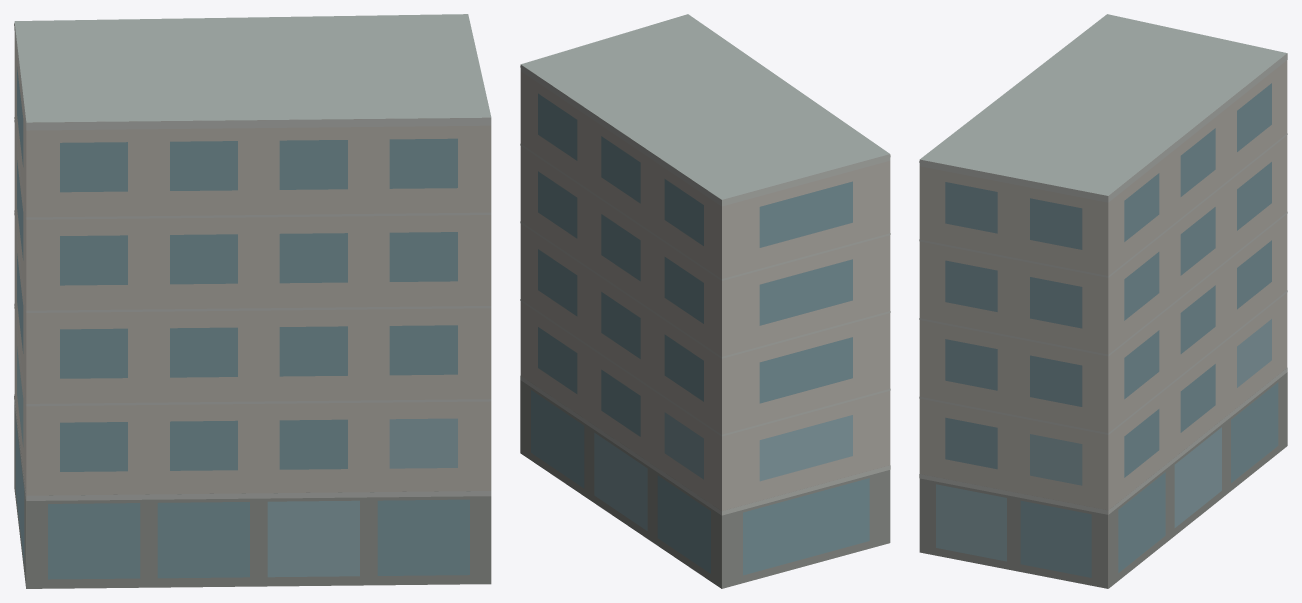
File: survey-upis-32905708.glb
3 views of the same model, side by side, from view 1: azimuth 30°, elevation 25°; view 2: azimuth 150°, elevation 25°; view 3: azimuth 270°, elevation 25° (orthographic). The views are drawn at different scales.
Parts seen in each view (by area): view 1: survey-upis-32905708.tmp; view 2: survey-upis-32905708.tmp; view 3: survey-upis-32905708.tmp.
Part boxes in pixels (<box>): survey-upis-32905708.tmp: <box>14,14,491,588</box>; survey-upis-32905708.tmp: <box>520,14,890,588</box>; survey-upis-32905708.tmp: <box>919,14,1287,588</box>.
Size of the model in its own units: 14.13 by 14.2 by 12.07.
